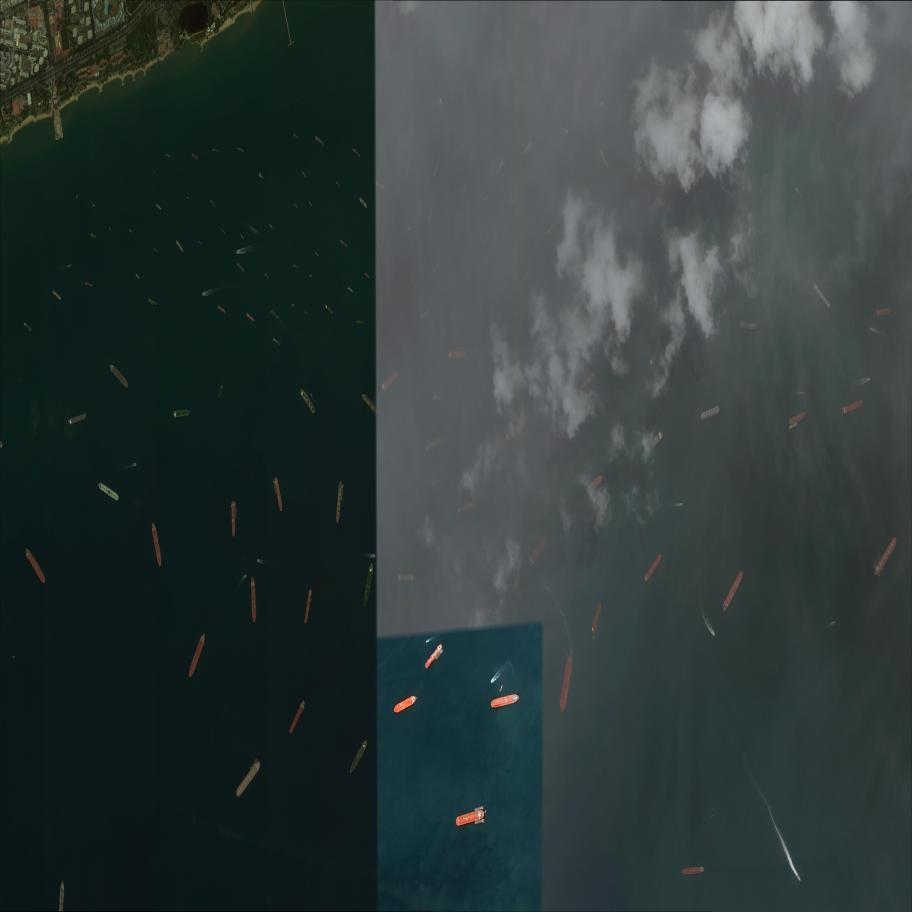plane: (438, 95, 442, 107)
ship: (871, 534, 900, 578), (233, 760, 264, 799), (720, 569, 745, 613), (22, 546, 49, 586), (186, 632, 207, 679), (558, 653, 574, 713), (347, 738, 370, 775), (641, 553, 664, 585), (527, 535, 549, 568), (288, 699, 307, 735), (502, 418, 528, 444), (390, 693, 420, 715), (811, 281, 833, 311), (107, 363, 131, 390), (150, 521, 163, 570), (574, 369, 598, 395), (423, 643, 445, 670), (297, 387, 318, 415), (362, 562, 374, 608), (641, 431, 666, 453), (95, 481, 121, 502), (454, 809, 486, 826), (360, 392, 381, 416), (840, 399, 866, 416), (379, 371, 401, 391), (648, 338, 662, 369), (490, 693, 520, 707), (590, 601, 602, 636), (584, 474, 605, 494), (422, 436, 444, 454), (698, 405, 722, 421), (273, 476, 283, 513), (786, 411, 808, 426), (455, 501, 476, 515), (304, 589, 312, 625), (250, 577, 256, 623), (67, 413, 88, 426), (336, 481, 342, 523), (58, 881, 66, 911), (598, 148, 609, 168), (681, 866, 705, 875), (494, 157, 505, 176), (545, 219, 557, 236), (521, 140, 533, 157), (171, 409, 191, 418), (739, 321, 759, 330), (871, 555, 882, 571), (447, 350, 467, 358), (50, 290, 63, 302), (793, 186, 804, 200), (874, 308, 893, 316), (313, 135, 325, 147), (231, 501, 235, 537), (418, 308, 430, 320), (434, 648, 445, 661), (175, 239, 185, 253), (522, 265, 530, 282), (377, 235, 385, 252), (432, 258, 440, 275), (323, 303, 334, 315), (358, 197, 369, 209), (244, 312, 256, 323), (216, 304, 228, 315), (723, 188, 735, 199), (657, 229, 669, 240), (397, 574, 415, 581), (461, 180, 470, 194), (269, 309, 280, 320), (351, 147, 362, 158), (22, 322, 33, 333), (249, 758, 259, 770), (432, 162, 440, 177), (876, 566, 885, 579), (592, 623, 598, 642), (235, 262, 245, 273), (427, 206, 433, 224), (811, 286, 820, 298), (519, 306, 525, 323), (271, 337, 282, 346), (374, 182, 385, 191), (529, 548, 537, 560), (339, 239, 349, 248), (788, 422, 799, 430), (482, 235, 491, 244), (440, 205, 449, 214), (272, 478, 277, 494), (190, 152, 200, 160), (405, 163, 410, 179), (147, 299, 158, 306), (218, 383, 223, 398), (382, 386, 391, 394), (340, 484, 344, 501), (474, 818, 485, 824), (634, 163, 638, 179), (560, 127, 569, 134), (460, 292, 469, 299), (84, 281, 94, 287), (292, 133, 300, 140), (483, 195, 491, 202), (210, 199, 216, 208), (236, 147, 245, 153), (796, 874, 802, 883), (134, 273, 141, 280), (155, 203, 162, 210), (220, 228, 227, 235), (269, 223, 275, 231), (474, 806, 483, 811), (258, 173, 264, 180), (347, 287, 354, 293), (364, 272, 370, 279), (90, 233, 97, 239), (240, 233, 245, 241), (336, 181, 341, 189), (509, 199, 517, 204), (264, 273, 270, 279), (252, 228, 258, 234), (292, 263, 298, 269), (153, 248, 159, 254), (308, 201, 314, 207), (293, 203, 299, 209), (499, 684, 503, 693), (597, 101, 604, 106), (234, 501, 236, 518), (411, 272, 414, 283), (301, 706, 305, 714), (290, 304, 296, 309), (398, 567, 403, 573), (165, 153, 171, 158), (198, 240, 203, 246), (302, 171, 307, 177), (212, 148, 219, 152), (314, 252, 319, 257), (243, 574, 248, 579), (489, 678, 494, 683), (303, 311, 309, 315), (356, 321, 364, 324), (152, 171, 157, 175), (91, 235, 96, 239), (472, 468, 477, 472), (407, 227, 412, 231), (712, 631, 716, 636), (867, 377, 871, 381), (129, 229, 133, 233), (309, 393, 313, 397), (133, 463, 137, 467), (425, 640, 429, 644), (652, 459, 656, 463), (236, 250, 239, 255), (202, 292, 205, 297), (309, 274, 313, 277), (869, 326, 872, 330), (109, 227, 112, 231), (92, 204, 96, 207), (186, 196, 190, 199), (150, 302, 154, 305), (484, 809, 487, 813), (712, 814, 715, 818), (833, 620, 836, 624), (259, 172, 262, 175), (373, 554, 376, 557), (257, 559, 260, 562), (434, 396, 437, 399), (69, 264, 72, 267), (681, 502, 683, 506), (76, 195, 79, 197), (292, 304, 294, 306), (76, 197, 78, 199), (236, 509, 237, 513), (802, 392, 804, 394)
